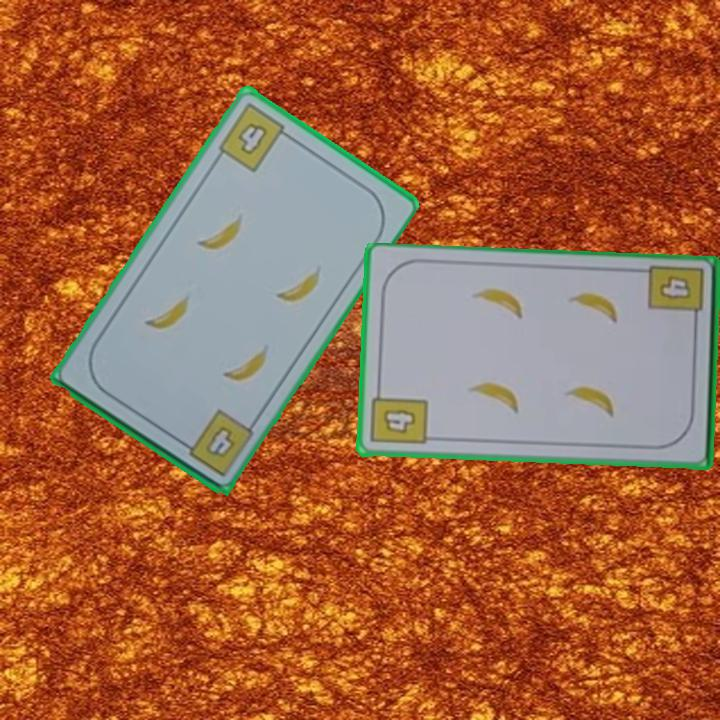4b: (214, 99, 296, 176), (175, 405, 253, 480), (645, 263, 707, 329), (368, 384, 430, 448)
